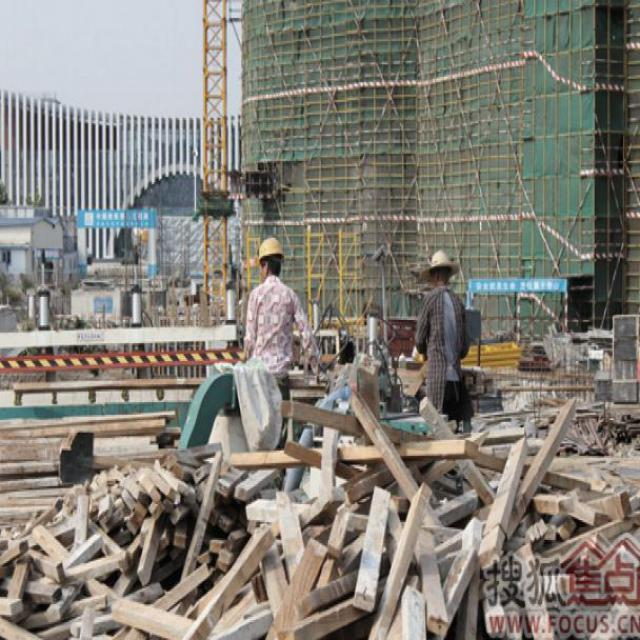helmet: (248, 226, 292, 282)
